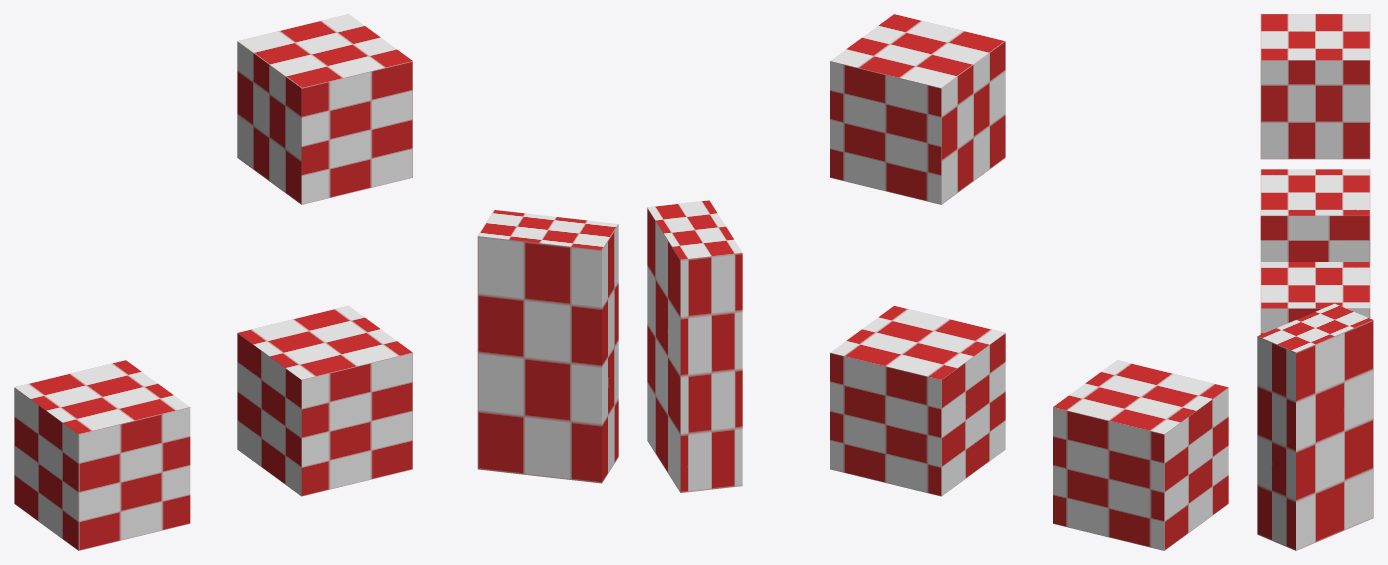
File: gltf_node_transforms.gltf
3 views of the same model, side by side, from view 1: azimuth 30°, elevation 25°; view 2: azimuth 150°, elevation 25°; view 3: azimuth 270°, elevation 25° (orthographic). The views are drawn at different scales.
Size of the model in its own units: 5.03 by 4 by 1.06.
Materials: 1 (1 with a texture image).
